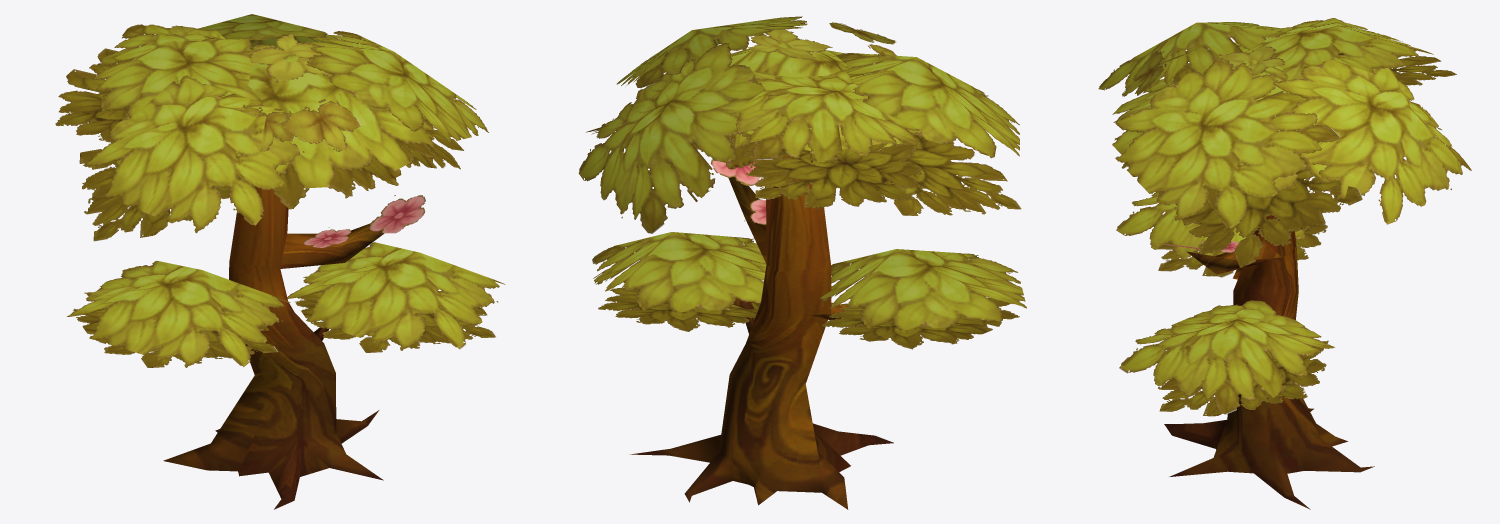
Rendered from loyalismwood_tree02.FBX.
3 renders of one model, left to right at view 1: azimuth 30°, elevation 25°; view 2: azimuth 150°, elevation 25°; view 3: azimuth 270°, elevation 25°, orthographic. The views are drawn at different scales.
Visible parts, largest first — view 1: loyalismwood_tree02; view 2: loyalismwood_tree02; view 3: loyalismwood_tree02.
Boxes of the visible parts, x1,y1,x2,y2 form: loyalismwood_tree02: (55, 14, 505, 509); loyalismwood_tree02: (578, 16, 1026, 509); loyalismwood_tree02: (1098, 18, 1471, 509).
Bounding box in the file's own units: 794 × 633 × 705.
